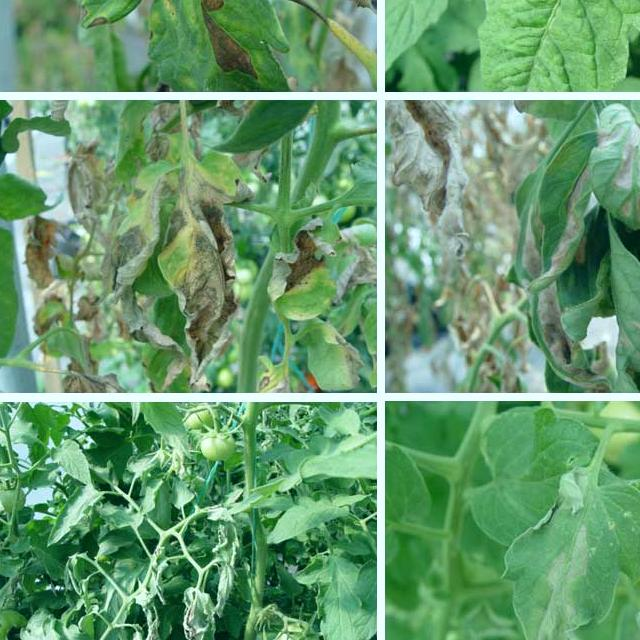Tomato leaf bacterial spot: (63, 0, 307, 81)
